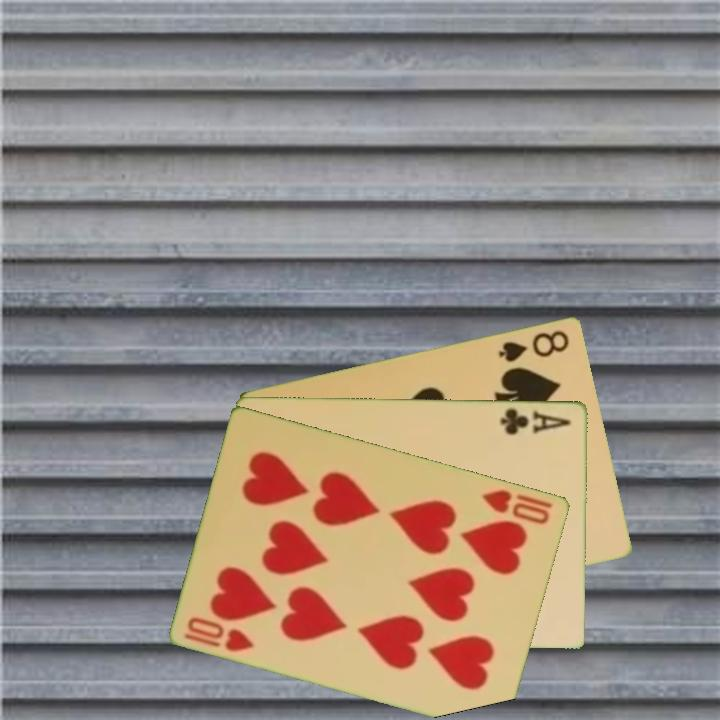10h: (479, 485, 556, 527), (181, 613, 258, 655)
8s: (495, 326, 573, 365)
Ac: (497, 405, 574, 438)
